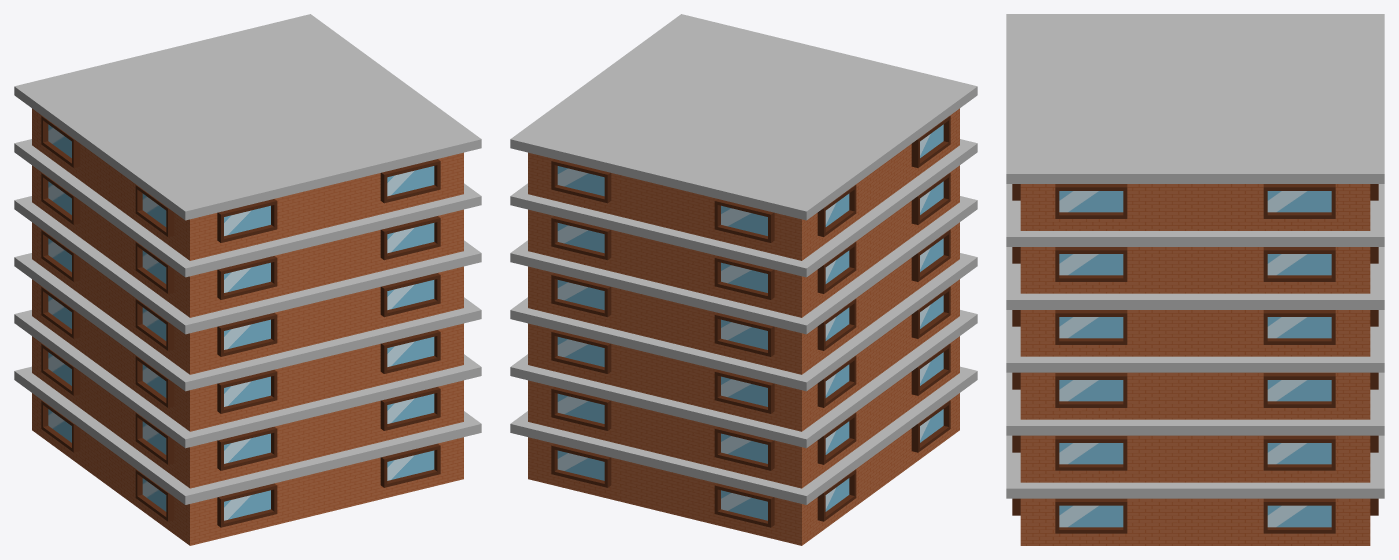
The model's file is VC_Building_5Floors.fbx.
The picture shows the model from 3 angles, left to right: view 1: azimuth 30°, elevation 25°; view 2: azimuth 150°, elevation 25°; view 3: azimuth 270°, elevation 25°; orthographic projection. The views are drawn at different scales.
Visible parts, largest first — view 1: VC_5Floors; view 2: VC_5Floors; view 3: VC_5Floors.
Part boxes in pixels (x1,y1,x2,y2): VC_5Floors: [14, 14, 481, 545]; VC_5Floors: [510, 14, 977, 545]; VC_5Floors: [1006, 14, 1384, 545].
Bounding box in the file's own units: 10.89 × 12.01 × 10.89.
